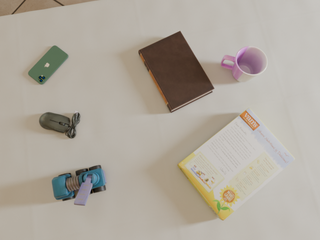book: (139, 31, 214, 113)
box: (178, 108, 295, 220)
cup: (221, 46, 267, 82)
mouse: (39, 111, 80, 138)
phone: (28, 46, 68, 84)
toy_car: (52, 165, 107, 205)
